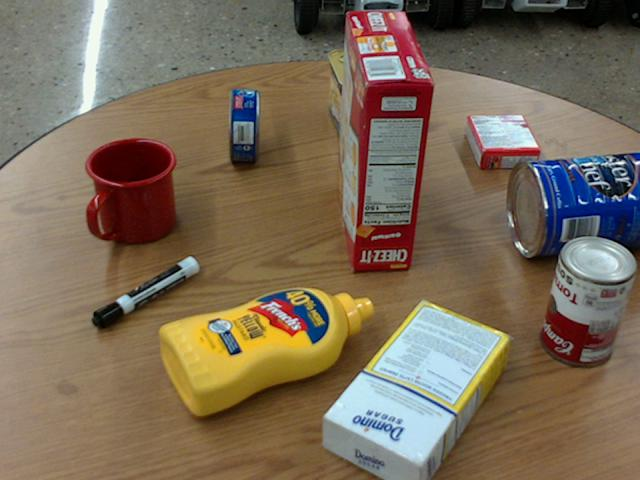cracker_box: (336, 10, 434, 270)
gelatin_box: (464, 114, 540, 168)
large_marker: (91, 256, 197, 328)
master_chef_can: (507, 149, 639, 256)
mug: (84, 139, 175, 244)
mustard_bottle: (158, 286, 373, 417)
potted_meat_can: (326, 48, 384, 143)
sugar_box: (321, 299, 510, 479)
tomato_soup_can: (541, 233, 635, 363)
tuna_fish_can: (227, 88, 259, 161)
